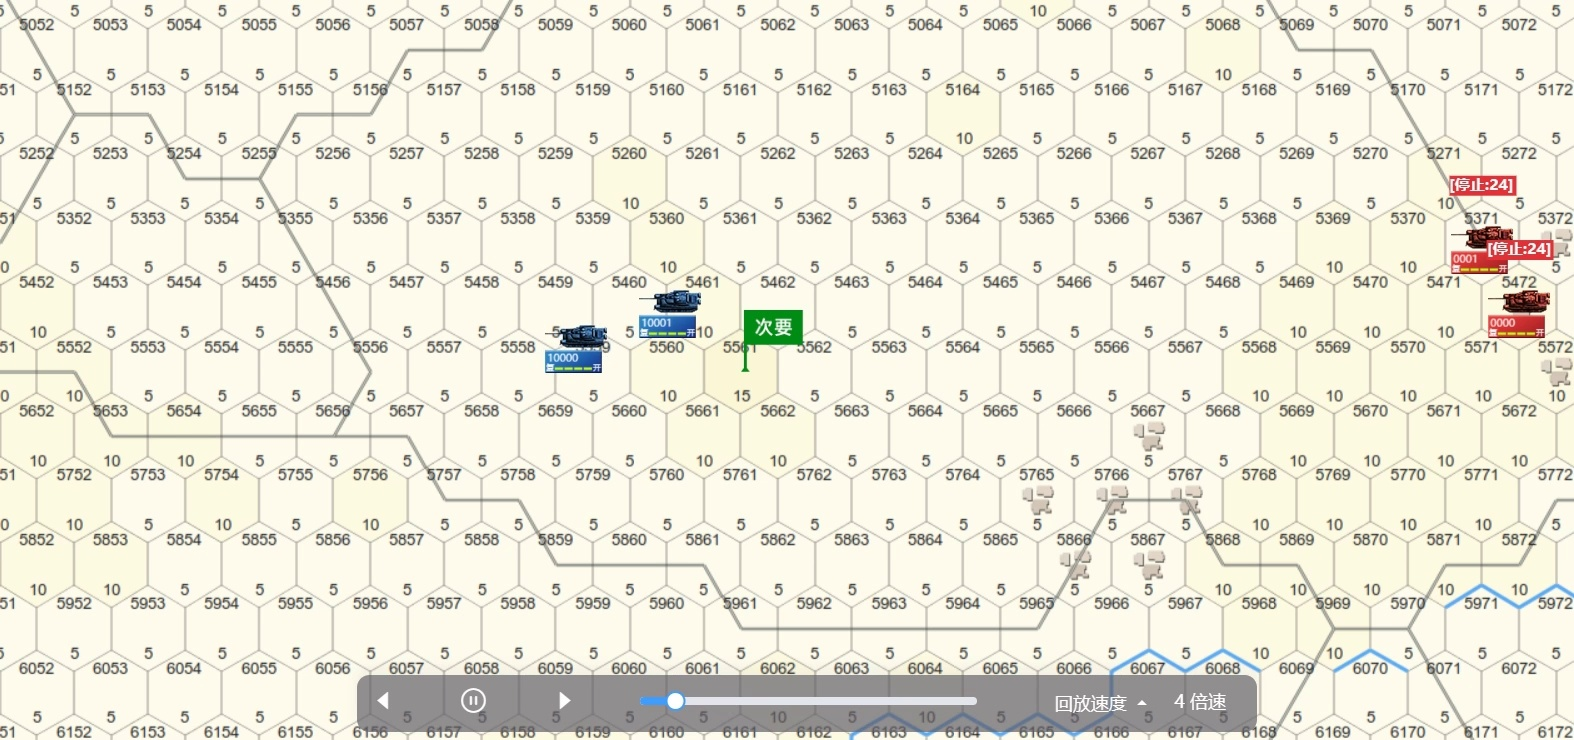blue_tank: (638, 288, 705, 353), (544, 326, 616, 379)
red_tank: (1452, 226, 1521, 282), (1488, 296, 1554, 344)
